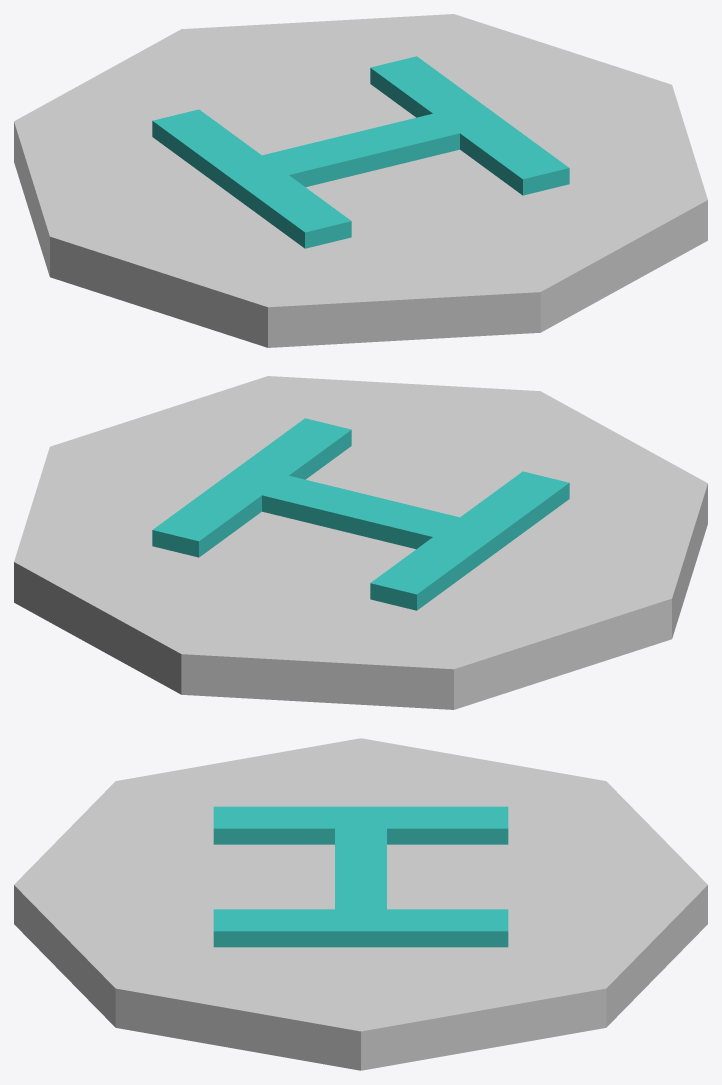
File: drone-pad.glb
The picture shows the model from 3 angles, top to bottom: view 1: azimuth 30°, elevation 25°; view 2: azimuth 150°, elevation 25°; view 3: azimuth 270°, elevation 25°; orthographic projection. The views are drawn at different scales.
Visible parts, largest first — view 1: lab-drone-pad; view 2: lab-drone-pad; view 3: lab-drone-pad.
Boxes of the visible parts, bbox=[...] form: lab-drone-pad: bbox=[14, 14, 707, 347]; lab-drone-pad: bbox=[14, 376, 707, 709]; lab-drone-pad: bbox=[14, 738, 707, 1070].
Bounding box in the file's own units: 0.8 × 0.07 × 0.8.
